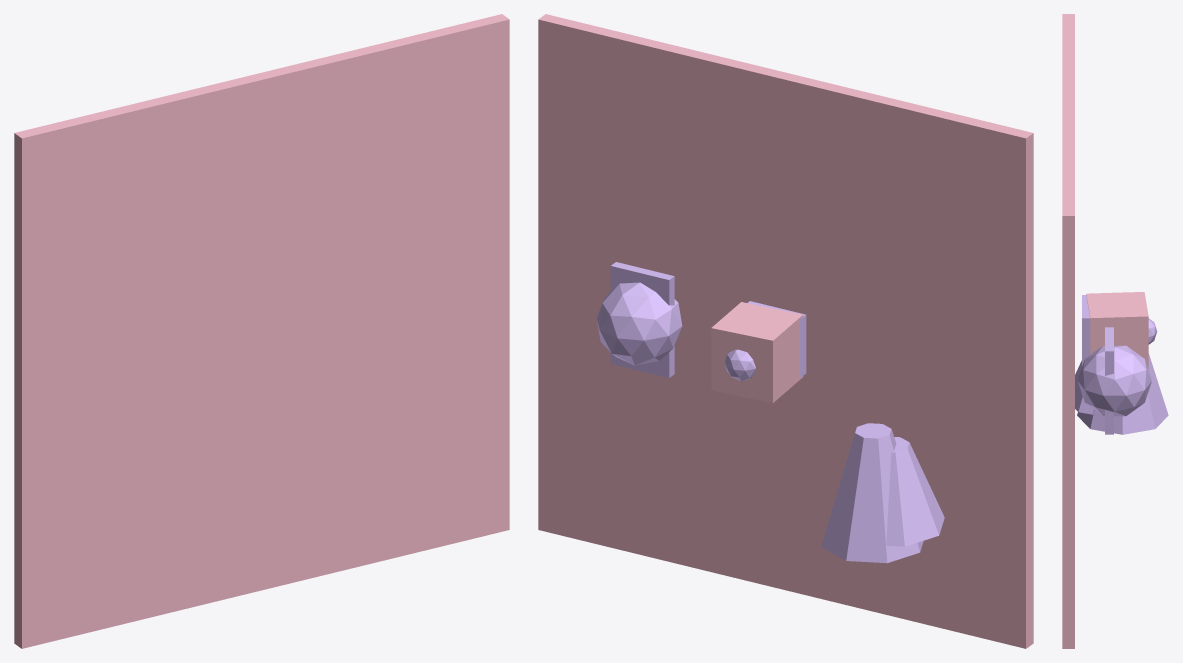
File: beat-forge-kit.glb
3 views of the same model, side by side, from view 1: azimuth 30°, elevation 25°; view 2: azimuth 150°, elevation 25°; view 3: azimuth 270°, elevation 25° (orthographic). The views are drawn at different scales.
Parts seen in each view (by area): view 1: ENVIRONMENT_GROUND; view 2: ENVIRONMENT_GROUND, PROFILE_ENVIRONMENT_DETAIL, PLAYER_BODY, OBSTACLE, ENVIRONMENT_LANDMARK, PROFILE_OBSTACLE_DETAIL, PLAYER_CORE; view 3: ENVIRONMENT_GROUND, OBSTACLE, PLAYER_BODY, PROFILE_ENVIRONMENT_DETAIL, PROFILE_OBSTACLE_DETAIL, PROFILE_PLAYER_DETAIL, ENVIRONMENT_LANDMARK, PLAYER_CORE.
Boxes of the visible parts, x1,y1,x2,y2 form: ENVIRONMENT_GROUND: [14, 14, 509, 648]; ENVIRONMENT_GROUND: [538, 14, 1033, 648]; PROFILE_ENVIRONMENT_DETAIL: [821, 423, 923, 563]; PLAYER_BODY: [711, 302, 803, 402]; OBSTACLE: [596, 282, 682, 365]; ENVIRONMENT_LANDMARK: [886, 437, 944, 546]; PROFILE_OBSTACLE_DETAIL: [610, 262, 674, 377]; PLAYER_CORE: [725, 349, 755, 381]; ENVIRONMENT_GROUND: [1062, 14, 1074, 648]; OBSTACLE: [1077, 345, 1151, 416]; PLAYER_BODY: [1086, 292, 1148, 368]; PROFILE_ENVIRONMENT_DETAIL: [1077, 353, 1168, 434]; PROFILE_OBSTACLE_DETAIL: [1105, 327, 1113, 434]; PROFILE_PLAYER_DETAIL: [1082, 295, 1090, 366]; ENVIRONMENT_LANDMARK: [1075, 360, 1093, 414]; PLAYER_CORE: [1148, 318, 1157, 344].
Bounding box in the file's own units: 9 × 9 × 2.
